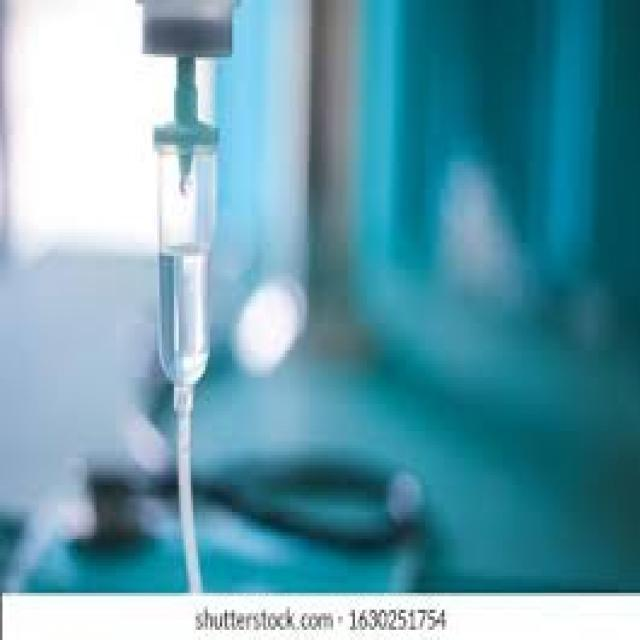iv_fluids: (150, 77, 262, 462)
